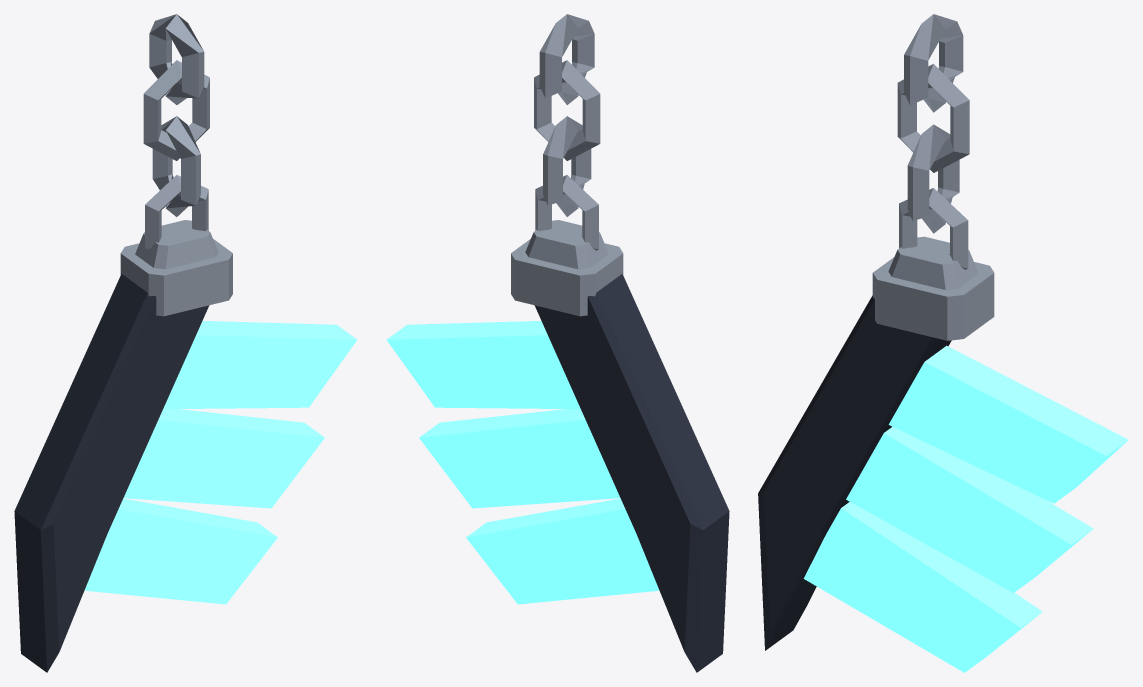
File: DashWing.fbx
3 renders of one model, left to right at view 1: azimuth 30°, elevation 25°; view 2: azimuth 150°, elevation 25°; view 3: azimuth 330°, elevation 25°, orthographic. The views are drawn at different scales.
Visible parts, largest first — view 1: Neon, Body_Wing_Dark, Body_Wing_Steel, Chain; view 2: Neon, Body_Wing_Dark, Body_Wing_Steel, Chain; view 3: Neon, Body_Wing_Dark, Body_Wing_Steel, Chain.
Boxes of the visible parts, bbox=[...] form: Neon: bbox=[84, 321, 357, 604]; Body_Wing_Dark: bbox=[14, 273, 209, 672]; Body_Wing_Steel: bbox=[120, 175, 232, 316]; Chain: bbox=[143, 14, 209, 216]; Neon: bbox=[386, 321, 659, 604]; Body_Wing_Dark: bbox=[534, 273, 729, 672]; Body_Wing_Steel: bbox=[511, 175, 623, 316]; Chain: bbox=[534, 14, 600, 216]; Neon: bbox=[803, 345, 1128, 672]; Body_Wing_Dark: bbox=[758, 295, 951, 650]; Body_Wing_Steel: bbox=[872, 188, 994, 340]; Chain: bbox=[897, 14, 969, 233].
Size of the model in its own units: 0.197 by 0.3619 by 0.0466.
